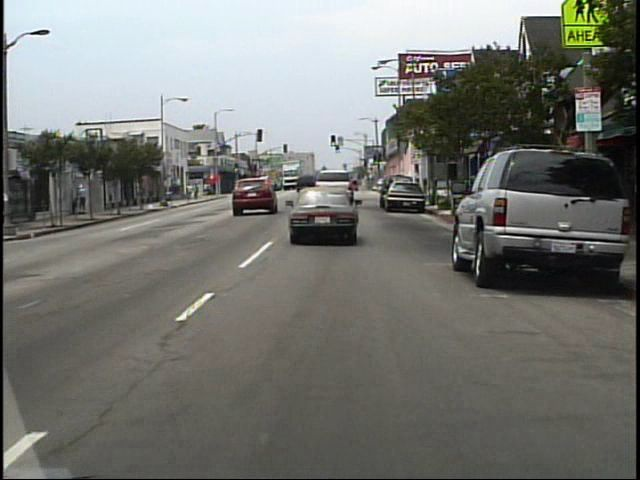person: (78, 184, 91, 214)
